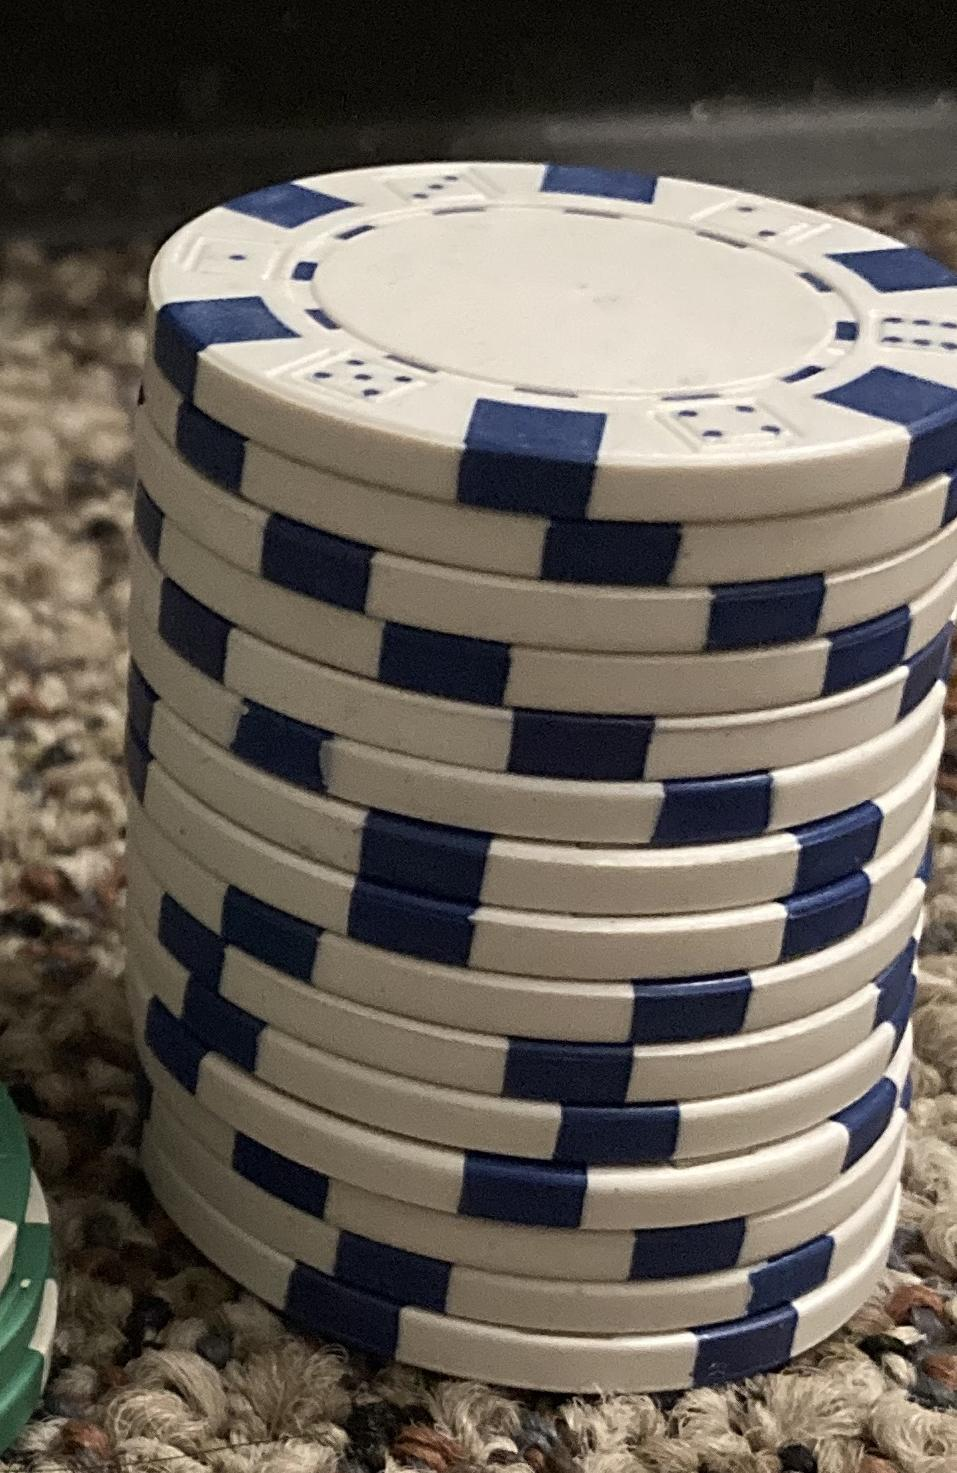Chip: (1, 1, 957, 1473)
